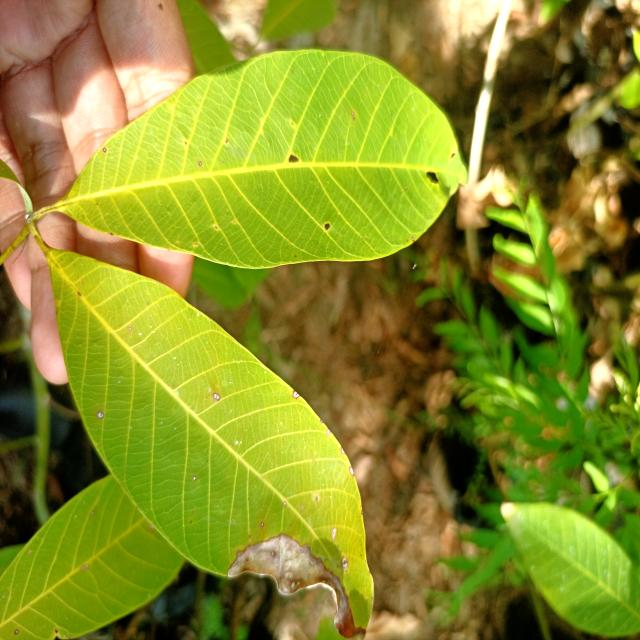Colletotrichum: (213, 392, 220, 401), (293, 390, 300, 399), (97, 411, 104, 419), (14, 629, 19, 635), (102, 147, 106, 153), (260, 522, 264, 527), (271, 551, 275, 556), (198, 162, 202, 166), (194, 476, 196, 481), (284, 502, 286, 506)
Leaf-Blight: (228, 534, 366, 640)
